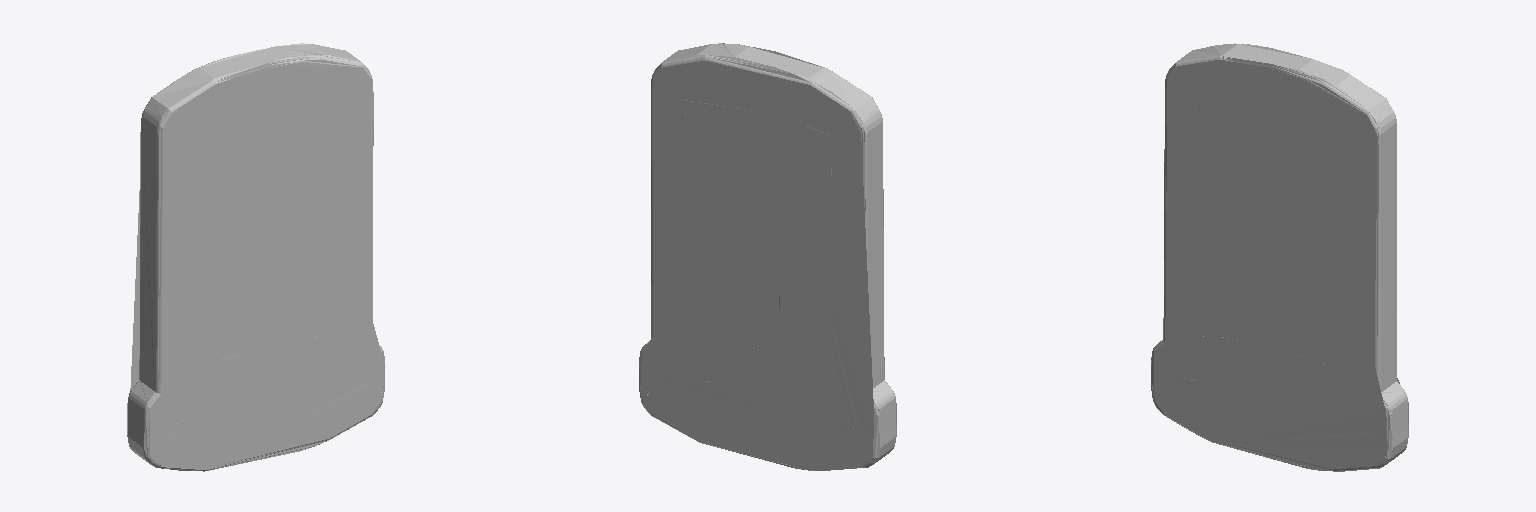
File: trash.obj
The picture shows the model from 3 angles: view 1: azimuth 30°, elevation 25°; view 2: azimuth 150°, elevation 25°; view 3: azimuth 330°, elevation 25°; orthographic projection.
Parts seen in each view (by area): view 1: trash; view 2: trash; view 3: trash.
Boxes of the visible parts, <box> form: trash: <box>127,43,384,471</box>; trash: <box>639,43,896,470</box>; trash: <box>1151,43,1408,471</box>.
Bounding box in the file's own units: 34.39 × 53.99 × 5.